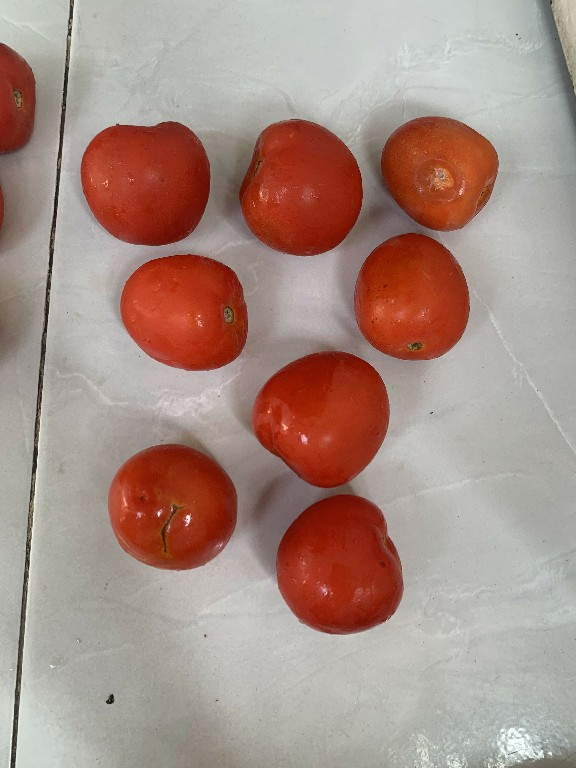NG: (102, 440, 241, 566), (368, 109, 500, 234)
OK: (246, 344, 396, 492), (262, 492, 401, 637), (232, 110, 367, 259), (77, 110, 212, 248), (348, 223, 472, 366), (109, 250, 252, 367)
